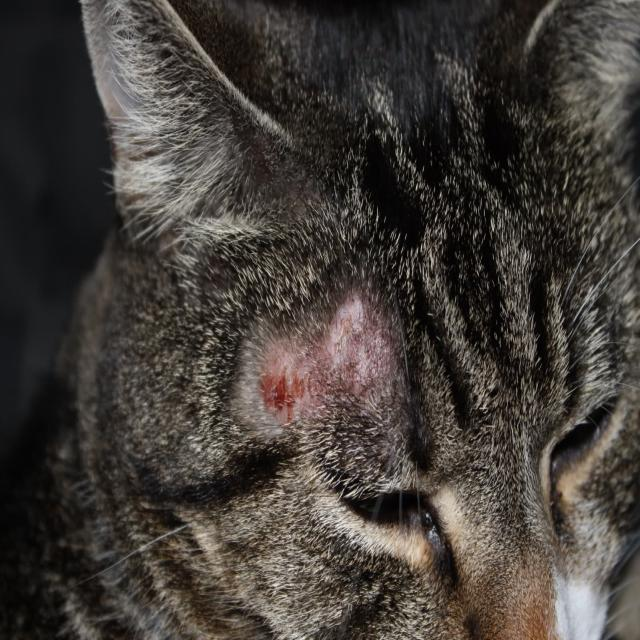cat-ringworm: (198, 262, 450, 478)
